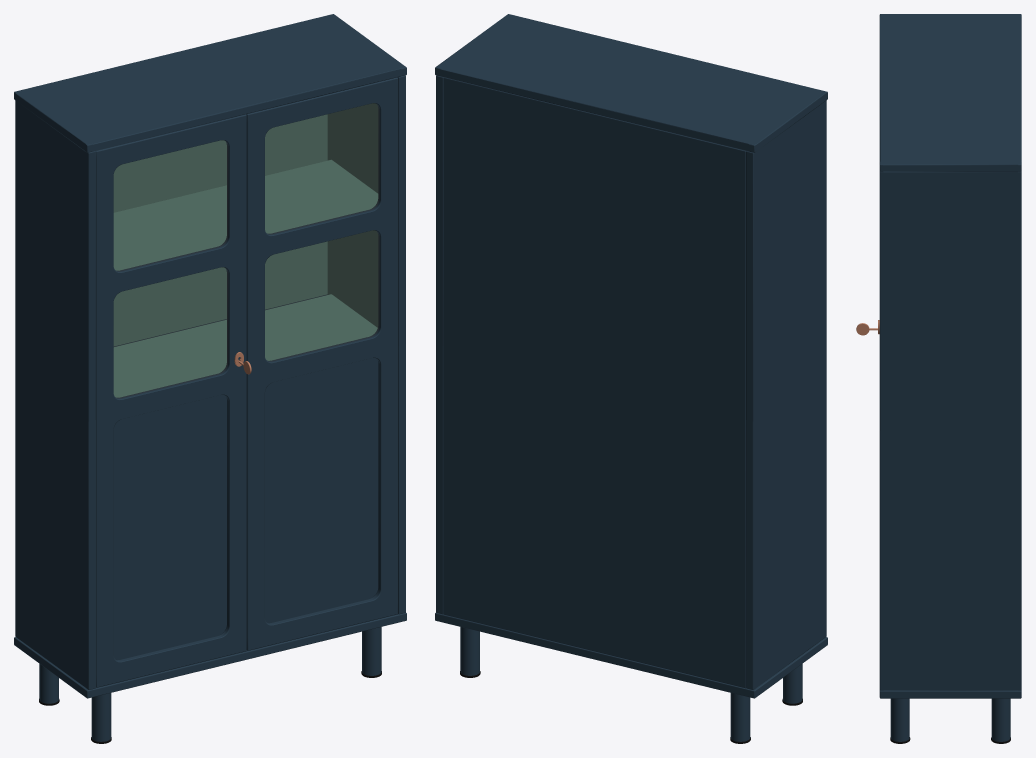
The model's file is cabinet-2.glb.
3 views of the same model, side by side, from view 1: azimuth 30°, elevation 25°; view 2: azimuth 150°, elevation 25°; view 3: azimuth 270°, elevation 25° (orthographic). The views are drawn at different scales.
Visible parts, largest first — view 1: QUIN_CABINET_BLUE__Quin_CabinetBLUE_0, QUIN_CABINET_BLUE_GLASS_0, QUIN_CABINET_BLUE__Quin_CabinetMINT_0; view 2: QUIN_CABINET_BLUE__Quin_CabinetBLUE_0; view 3: QUIN_CABINET_BLUE__Quin_CabinetBLUE_0.
Boxes of the visible parts, x1,y1,x2,y2 form: QUIN_CABINET_BLUE__Quin_CabinetBLUE_0: (14,14,406,741); QUIN_CABINET_BLUE_GLASS_0: (114,103,379,398); QUIN_CABINET_BLUE__Quin_CabinetMINT_0: (113,103,378,397); QUIN_CABINET_BLUE__Quin_CabinetBLUE_0: (435,14,827,741); QUIN_CABINET_BLUE__Quin_CabinetBLUE_0: (879,14,1021,741).
Bounding box in the file's own units: 99.25 × 180 × 45.97.
